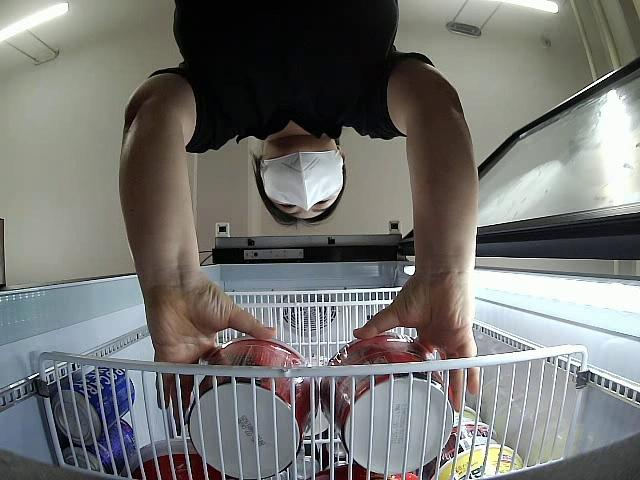00_hand: (140, 274, 276, 427), (353, 272, 481, 411)
01_shinRamen_L: (185, 337, 317, 477), (321, 335, 455, 471)
